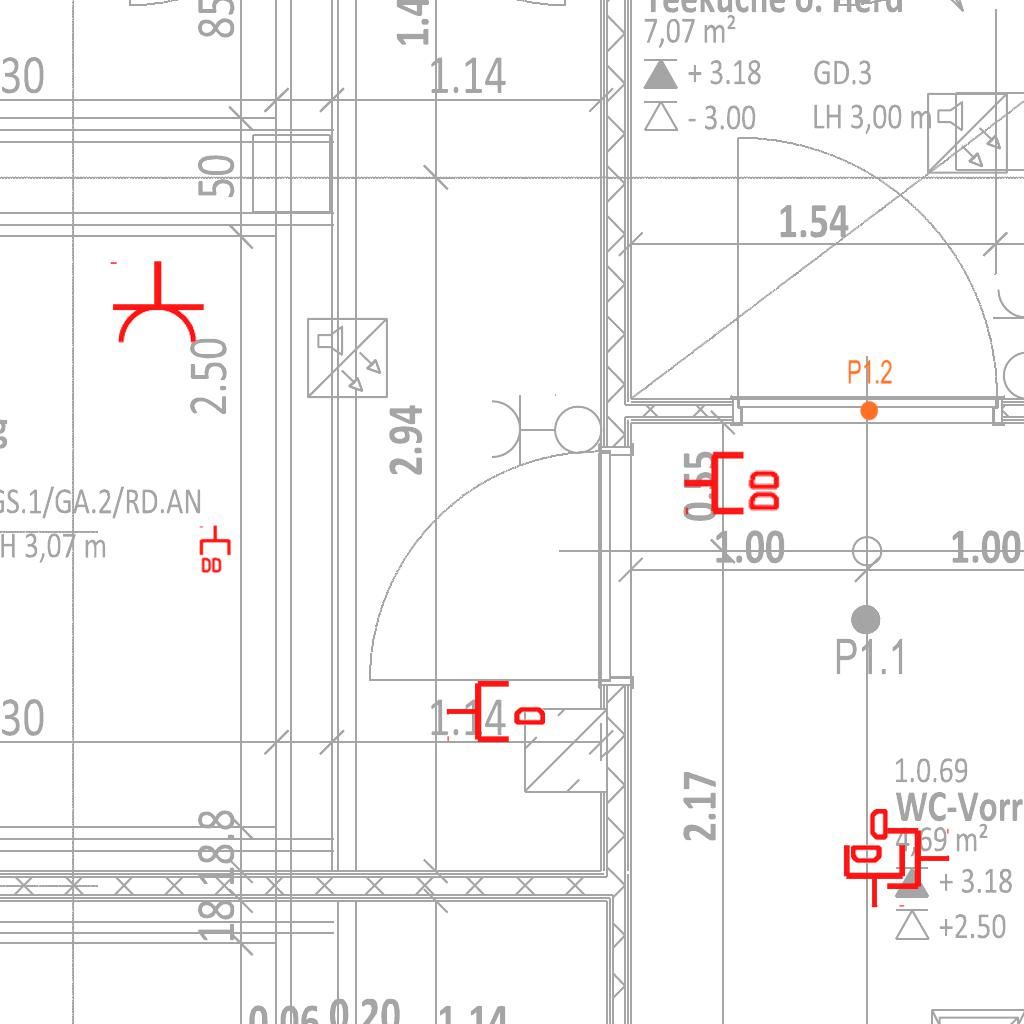Datenanschluss_einfach: (445, 677, 545, 746), (840, 809, 909, 909), (851, 824, 951, 893)
Datenanschluss_zweifach: (681, 447, 784, 516), (199, 524, 233, 575)
Downlight_LED_Einbauleuchten_Flur: (847, 358, 893, 422)
Schukosteckdose_einfach: (106, 259, 206, 346)
